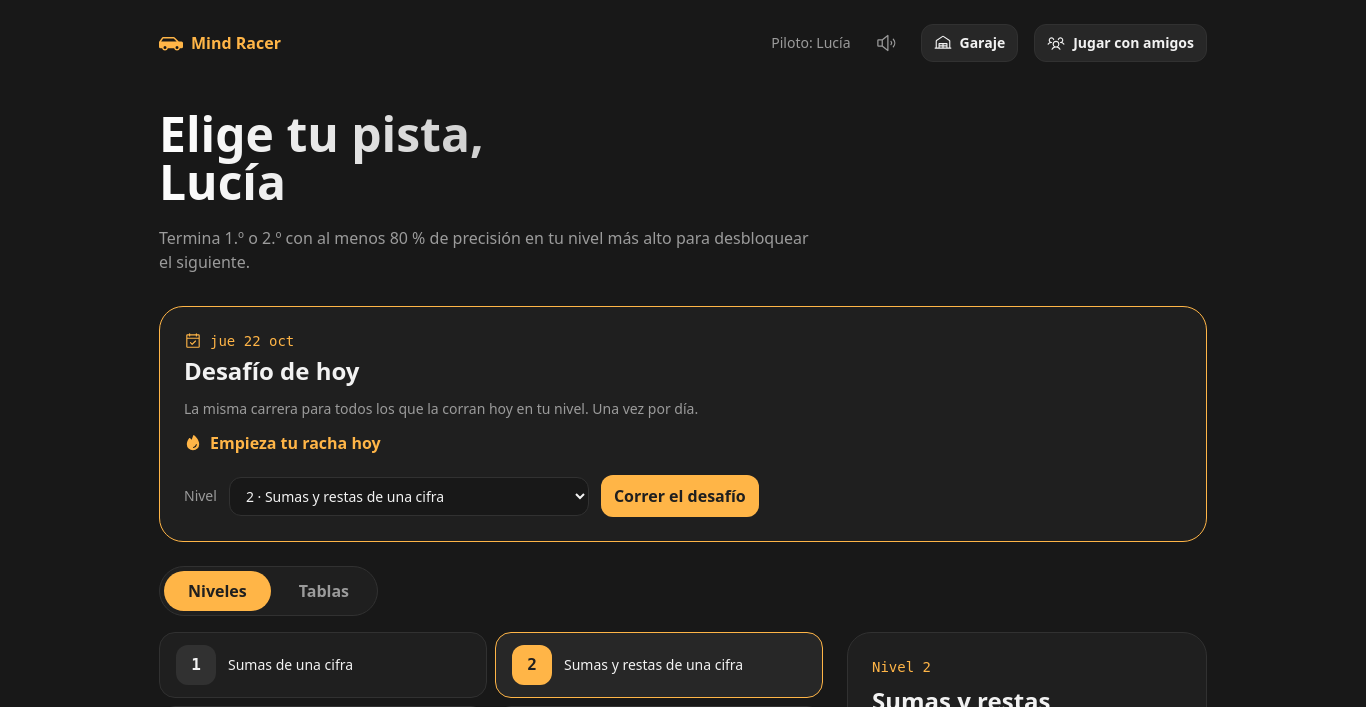
Test: Jugar con amigos: crear y unirse › error del servidor room-full: "La sala está llena" y sigue en la pantalla para unirse
The width and height of the screenshot is (1366, 707).
Click the button "Jugar con amigos".
click(1121, 43)  # box [1034,24,1207,62]
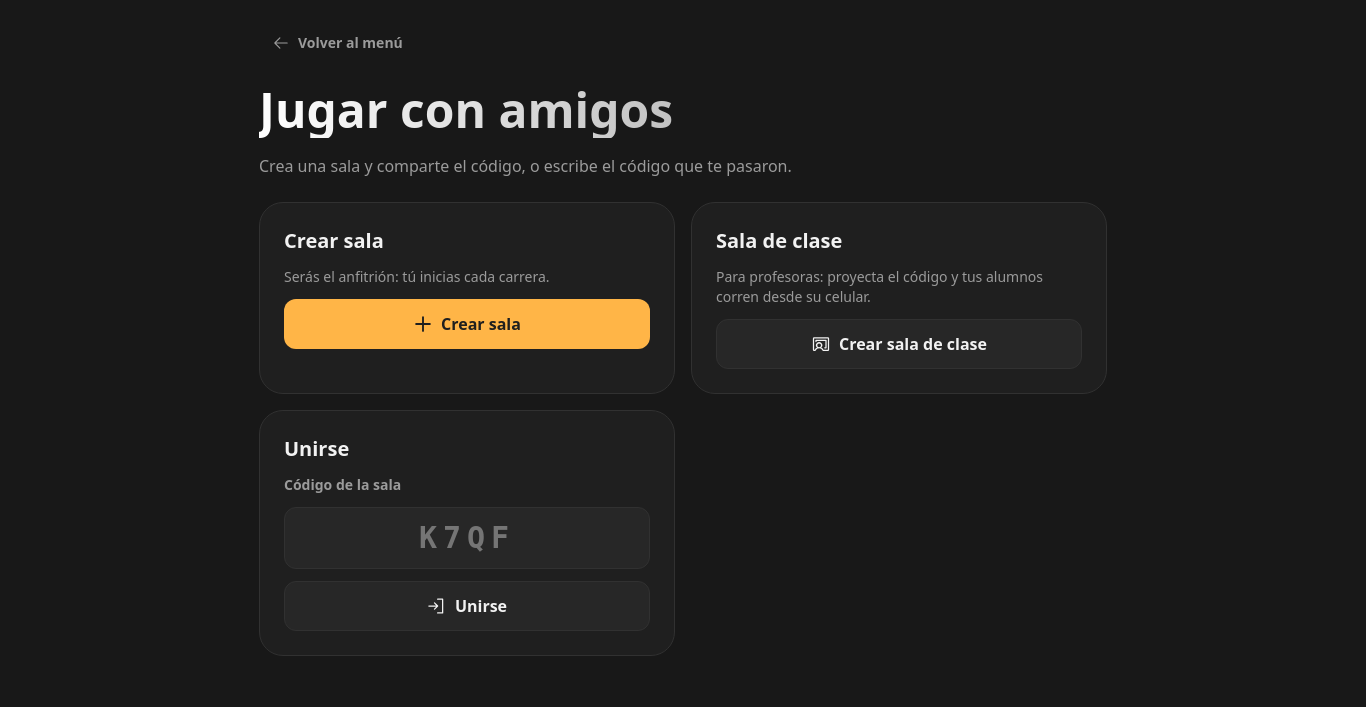
Type "ZZZZ" into the field labelled "Código de la sala".
click(467, 538); type("ZZZZ")  # box [284,507,650,569]
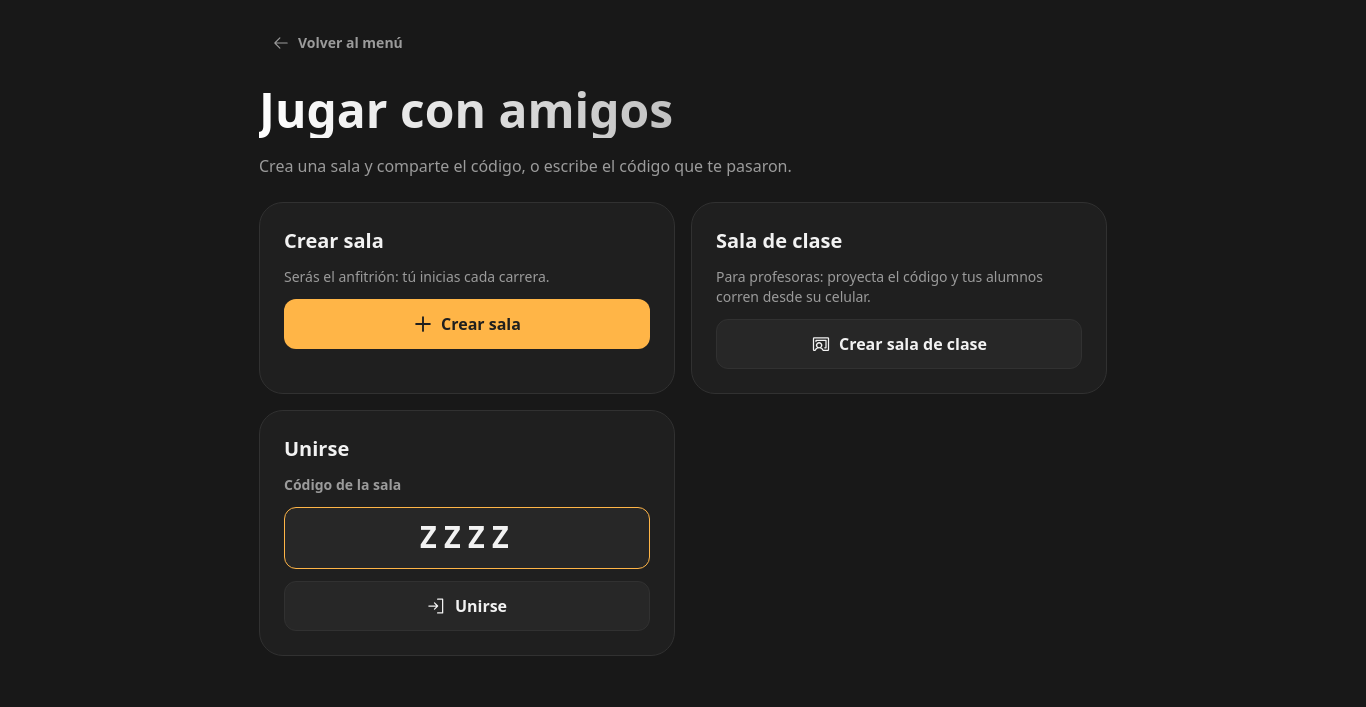
Click the button "Unirse".
click(467, 606)  # box [284,581,650,631]
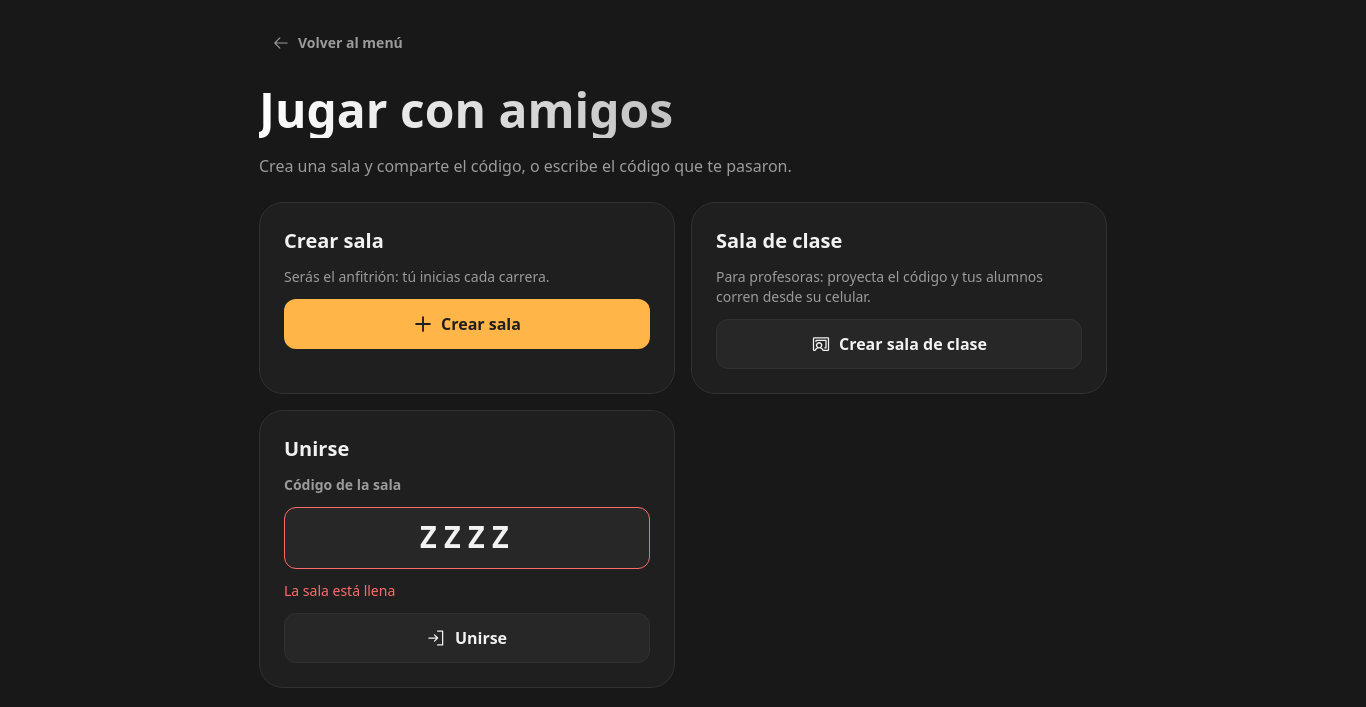
expect the message reads "La sala está llena": met, box [284,581,395,600]
